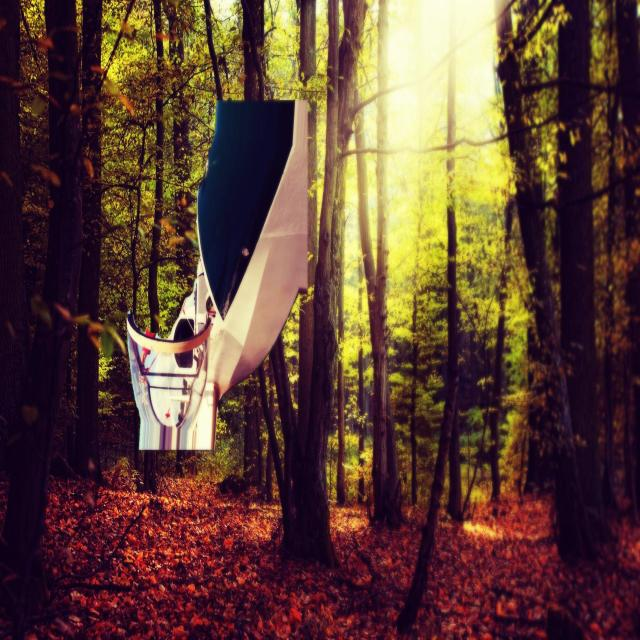airplane: (125, 97, 310, 452)
